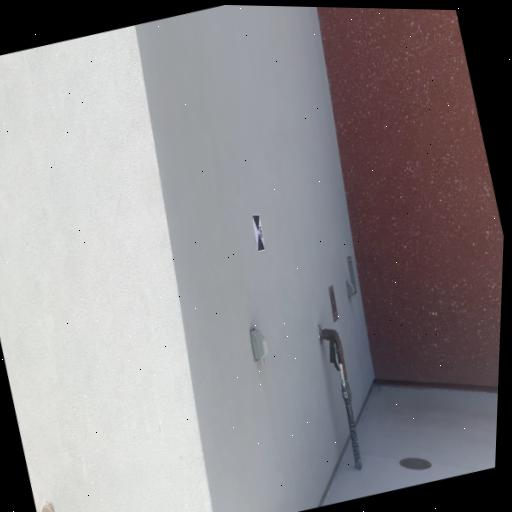target8: (252, 213, 266, 251)
